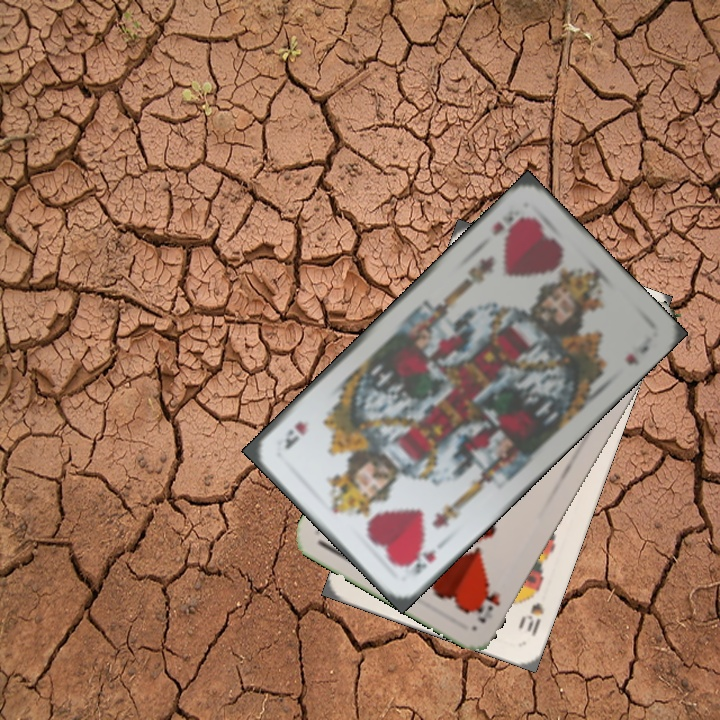HK: (401, 541, 439, 580), (488, 212, 527, 238)
HO: (469, 579, 503, 626)
S10: (514, 583, 547, 639)
